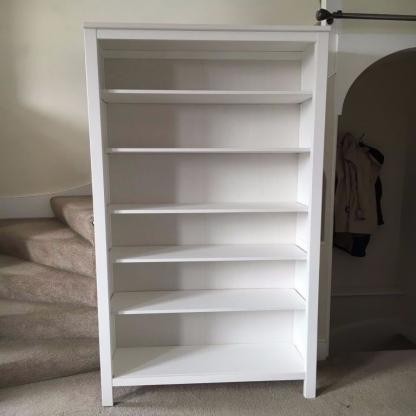lamp: (77, 20, 334, 408)
